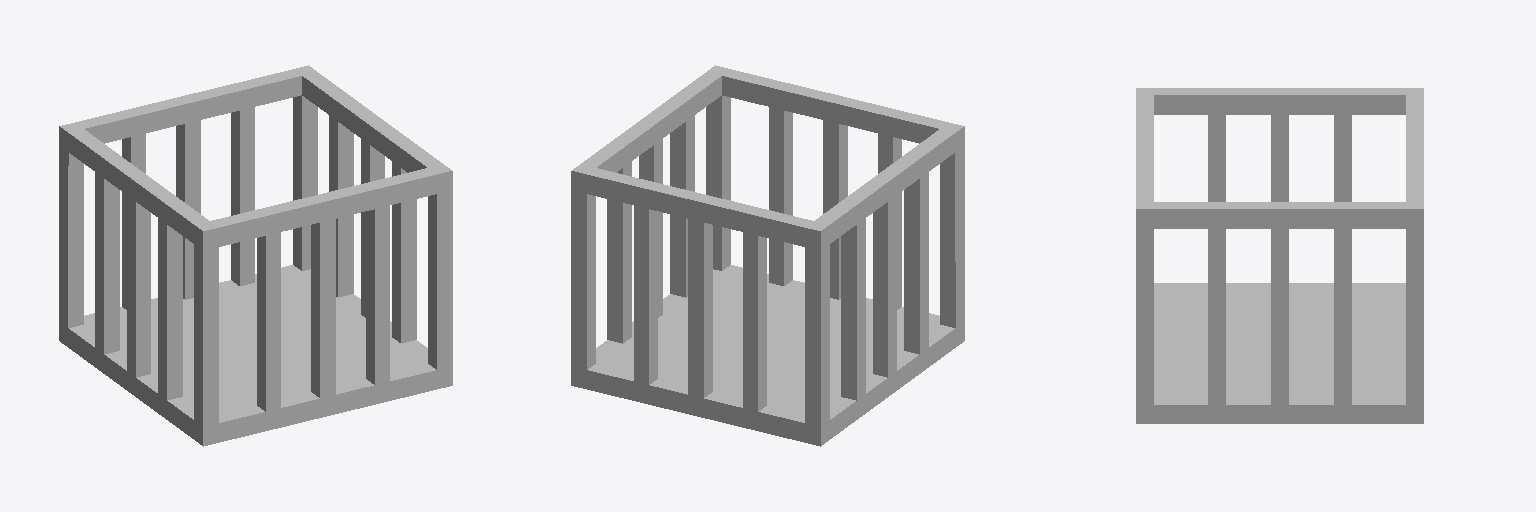
The model's file is MetalBox.obj.
3 renders of one model, left to right at view 1: azimuth 30°, elevation 25°; view 2: azimuth 150°, elevation 25°; view 3: azimuth 270°, elevation 25°, orthographic.
Visible parts, largest first — view 1: Cube; view 2: Cube; view 3: Cube.
Part boxes in pixels (x1,y1,x2,y2): Cube: (59,65,452,446); Cube: (571,65,964,446); Cube: (1136,88,1423,423).
Bounding box in the file's own units: 1.8 × 1.48 × 1.8.